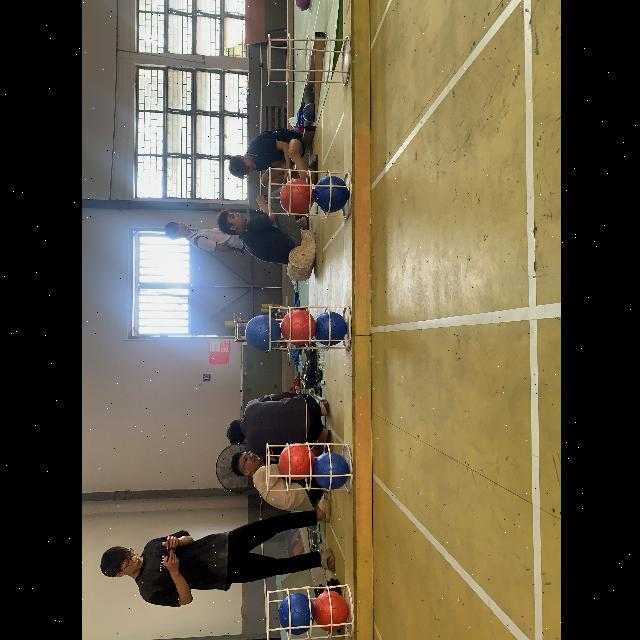B: (276, 594, 314, 634), (312, 452, 348, 490), (243, 314, 279, 350), (313, 176, 347, 212), (312, 312, 346, 346)
R: (312, 590, 348, 632), (278, 442, 314, 480), (279, 310, 315, 344), (278, 179, 312, 215)
